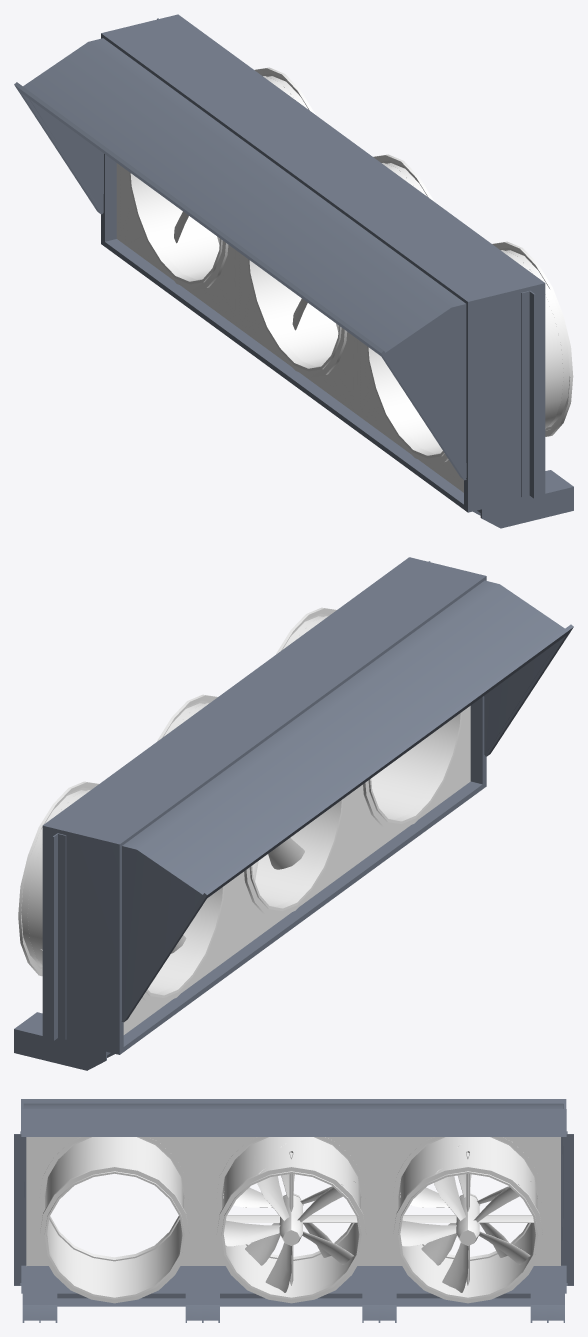
The model's file is SM_H_Building_Tide_PrisonMain_03i_ATLAS.fbx.
3 views of the same model, one above another, from view 1: azimuth 30°, elevation 25°; view 2: azimuth 150°, elevation 25°; view 3: azimuth 270°, elevation 25° (orthographic). The views are drawn at different scales.
Visible parts, largest first — view 1: SM_H_Building_Tide_PrisonMain_03i_ATLAS; view 2: SM_H_Building_Tide_PrisonMain_03i_ATLAS; view 3: SM_H_Building_Tide_PrisonMain_03i_ATLAS.
Boxes of the visible parts, x1,y1,x2,y2 form: SM_H_Building_Tide_PrisonMain_03i_ATLAS: (14, 14, 573, 528); SM_H_Building_Tide_PrisonMain_03i_ATLAS: (14, 557, 573, 1070); SM_H_Building_Tide_PrisonMain_03i_ATLAS: (14, 1099, 573, 1322).
Size of the model in its own units: 574 by 1762 by 609.
